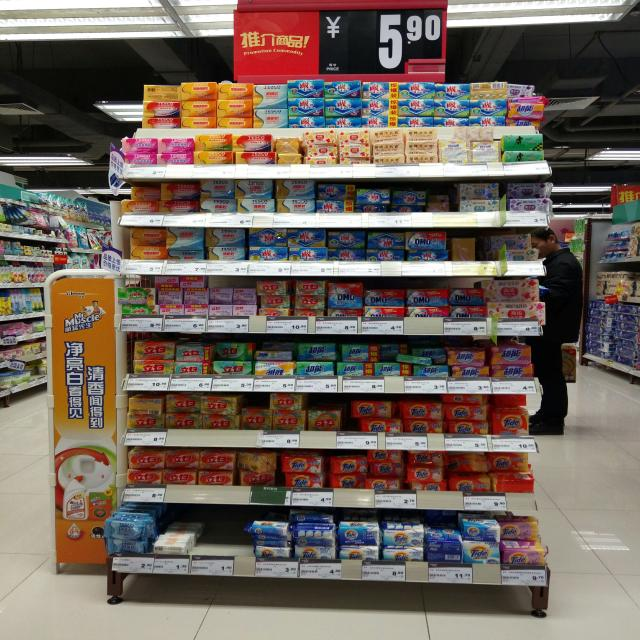unorganised: (350, 397, 403, 434), (492, 453, 536, 495), (406, 451, 449, 493), (280, 453, 325, 491), (328, 453, 369, 492), (255, 276, 293, 318), (236, 451, 278, 489), (368, 448, 403, 492), (325, 228, 366, 263), (204, 228, 247, 260), (487, 233, 538, 259), (426, 530, 460, 564), (463, 516, 501, 542), (295, 521, 334, 546), (501, 520, 538, 544), (392, 187, 428, 211), (445, 347, 487, 367), (130, 396, 165, 420), (506, 181, 550, 200), (295, 341, 336, 361), (450, 457, 491, 477), (317, 180, 355, 201), (340, 342, 378, 363), (270, 390, 303, 414), (212, 342, 253, 361), (460, 182, 499, 201), (341, 526, 379, 545), (130, 228, 166, 248), (166, 393, 200, 414), (145, 84, 180, 104), (473, 81, 507, 100), (395, 353, 431, 370), (129, 184, 159, 201), (431, 190, 451, 211)
